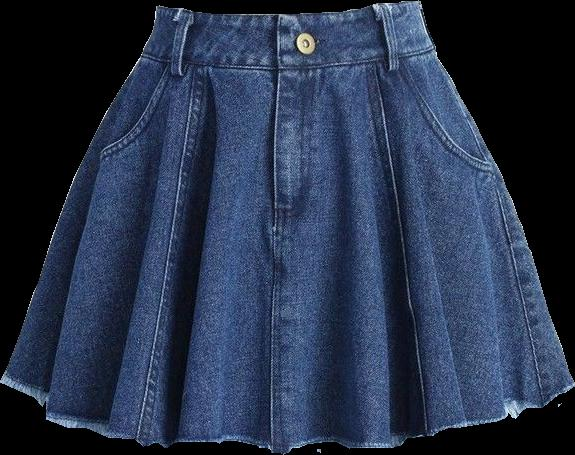Hemline: (0, 378, 574, 454)
Waistline: (139, 48, 436, 71), (156, 0, 418, 17)
